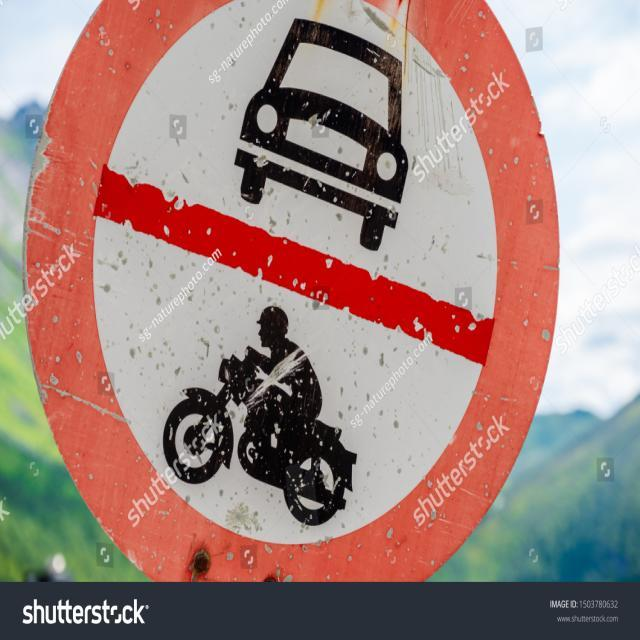all motor vehicle prohibited: (43, 37, 555, 541)
